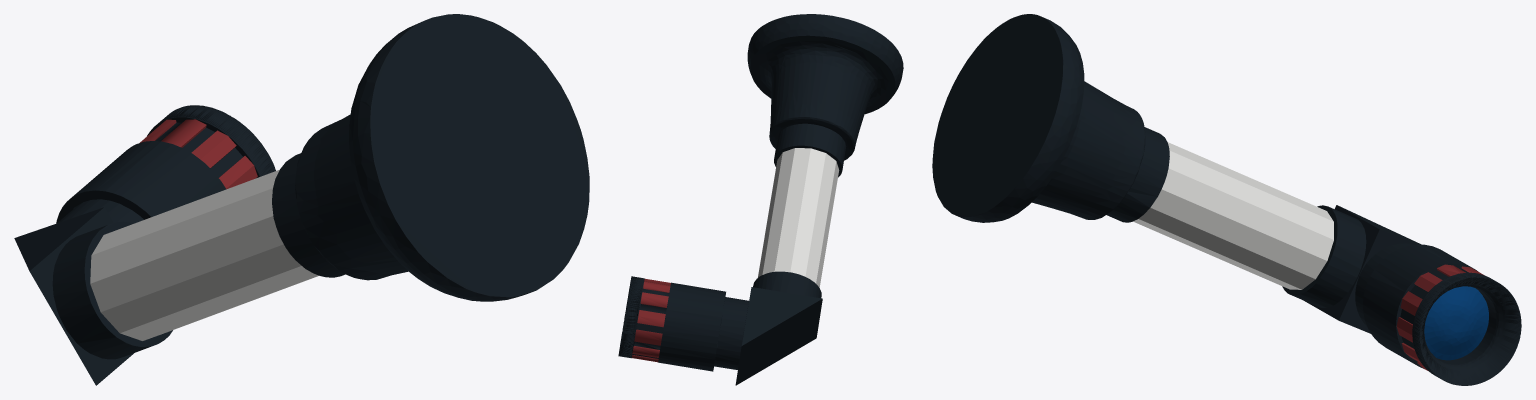
File: telescope_5_finder.fbx
3 views of the same model, side by side, from view 1: azimuth 30°, elevation 25°; view 2: azimuth 150°, elevation 25°; view 3: azimuth 270°, elevation 25° (orthographic). The views are drawn at different scales.
Parts seen in each view (by area): view 1: 5_finder; view 2: 5_finder; view 3: 5_finder.
Part boxes in pixels (left/top/right/bottom): 5_finder: left=14, top=14, right=589, bottom=385; 5_finder: left=618, top=14, right=903, bottom=385; 5_finder: left=932, top=14, right=1521, bottom=385.
Bounding box in the file's own units: 45.11 × 61.61 × 90.49.
